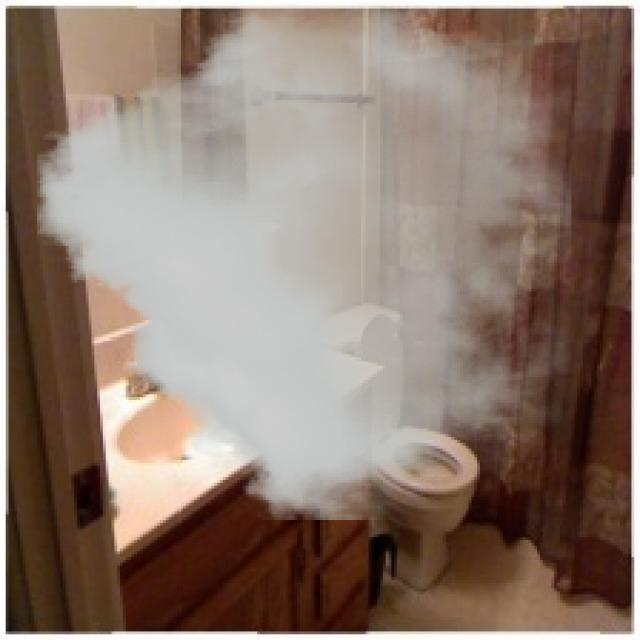Smoke: (37, 3, 572, 520)
